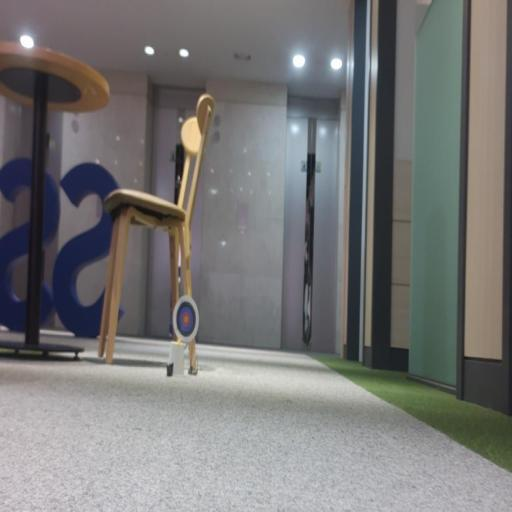target: (173, 296, 198, 342)
